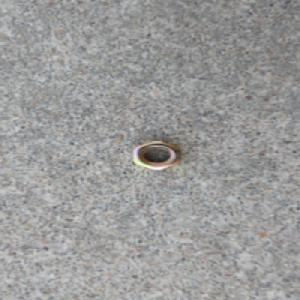Nut: (130, 140, 182, 171)
